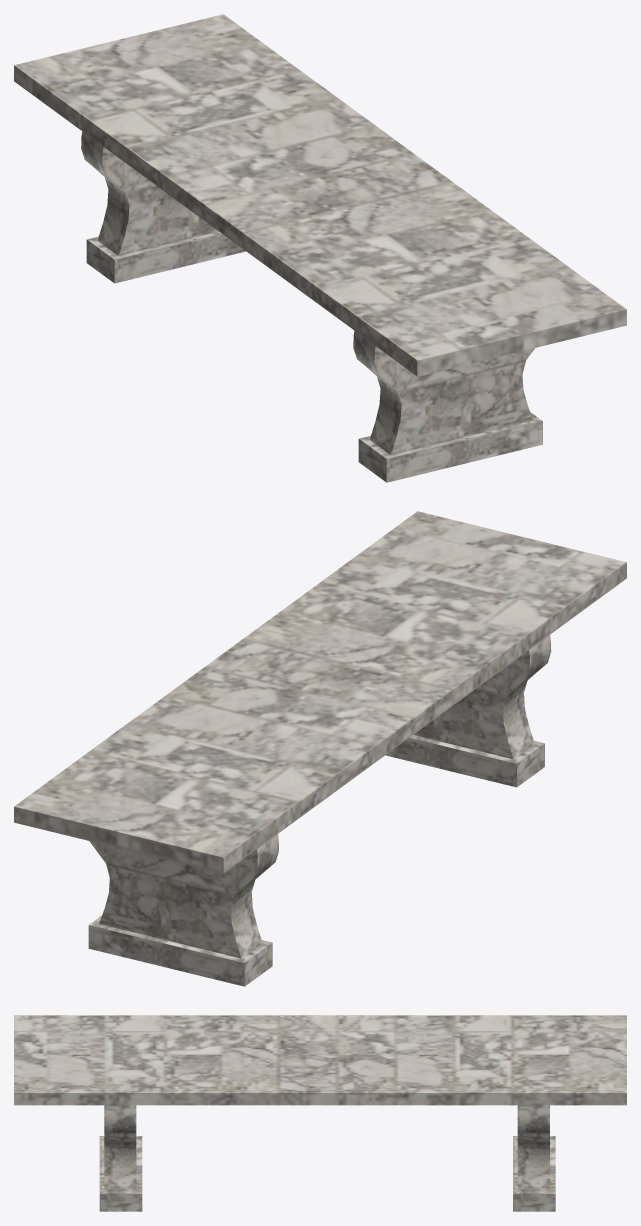
Rendered from Bench.fbx.
3 renders of one model, top to bottom at view 1: azimuth 30°, elevation 25°; view 2: azimuth 150°, elevation 25°; view 3: azimuth 270°, elevation 25°, orthographic. The views are drawn at different scales.
Parts seen in each view (by area): view 1: Bench; view 2: Bench; view 3: Bench.
Boxes of the visible parts, x1,y1,x2,y2 form: Bench: (14,14,626,482); Bench: (14,511,626,986); Bench: (14,1015,626,1211).
Bounding box in the file's own units: 106 × 82.29 × 355.
Materials: 1 (1 with a texture image).
